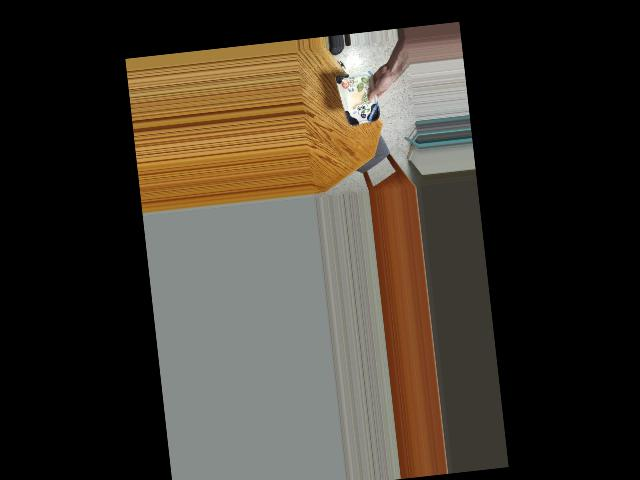cheese: (339, 74, 380, 124)
